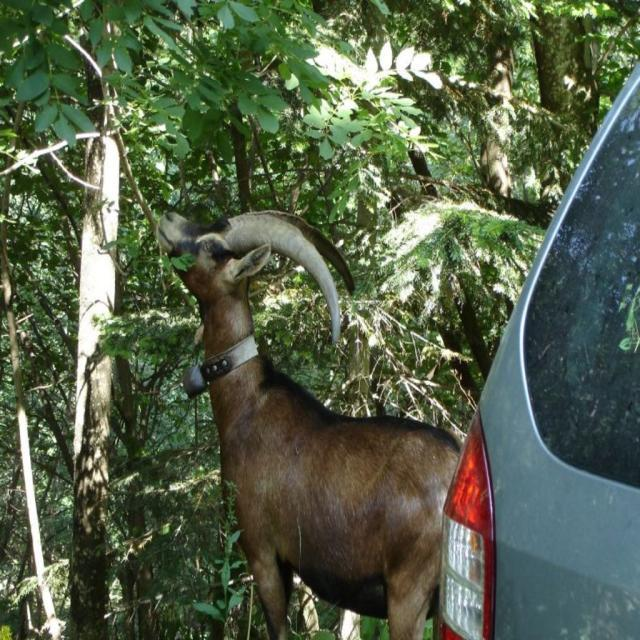Goat: (155, 208, 464, 639)
